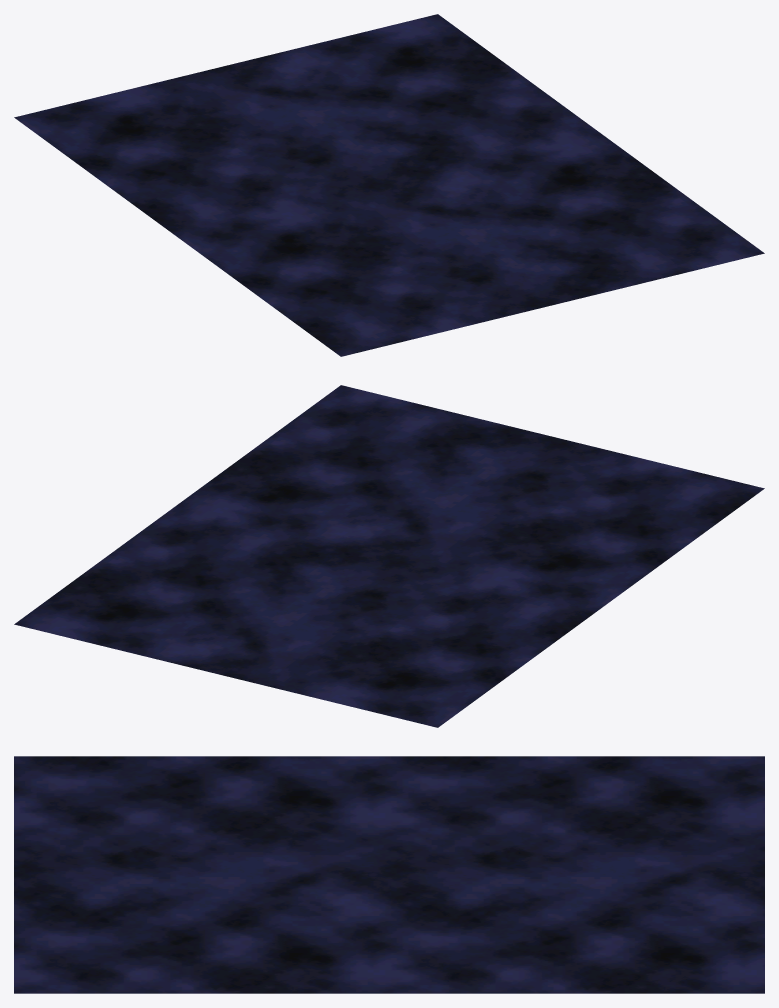
Rendered from OVERHILL_A_01_FOG_PLANEC_01.fbx.
The picture shows the model from 3 angles, top to bottom: view 1: azimuth 30°, elevation 25°; view 2: azimuth 150°, elevation 25°; view 3: azimuth 270°, elevation 25°; orthographic projection. The views are drawn at different scales.
Visible parts, largest first — view 1: OVERHILL_A_01_FOG_PLANEC_01; view 2: OVERHILL_A_01_FOG_PLANEC_01; view 3: OVERHILL_A_01_FOG_PLANEC_01.
Part boxes in pixels (bbox=[...]): OVERHILL_A_01_FOG_PLANEC_01: bbox=[14, 14, 764, 356]; OVERHILL_A_01_FOG_PLANEC_01: bbox=[14, 385, 764, 727]; OVERHILL_A_01_FOG_PLANEC_01: bbox=[14, 756, 764, 993].
Size of the model in its own units: 269023 by 0.0708 by 359500.
Materials: 1 (1 with a texture image).
